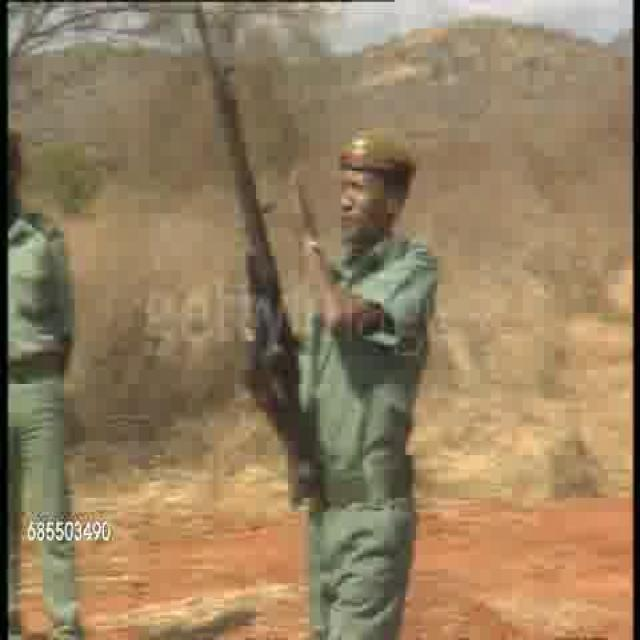poacher: (293, 106, 449, 640), (1, 118, 83, 622)
weapon: (196, 5, 321, 491)
